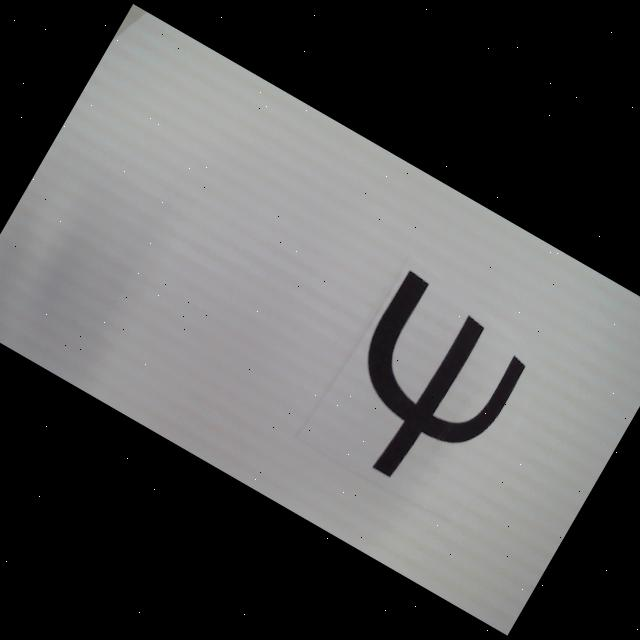PSI: (314, 270, 540, 512)
